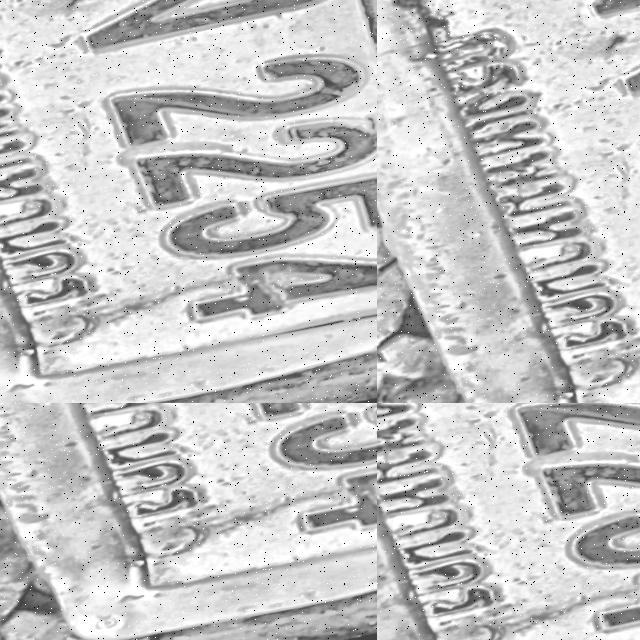license-plate: (377, 403, 640, 640)
